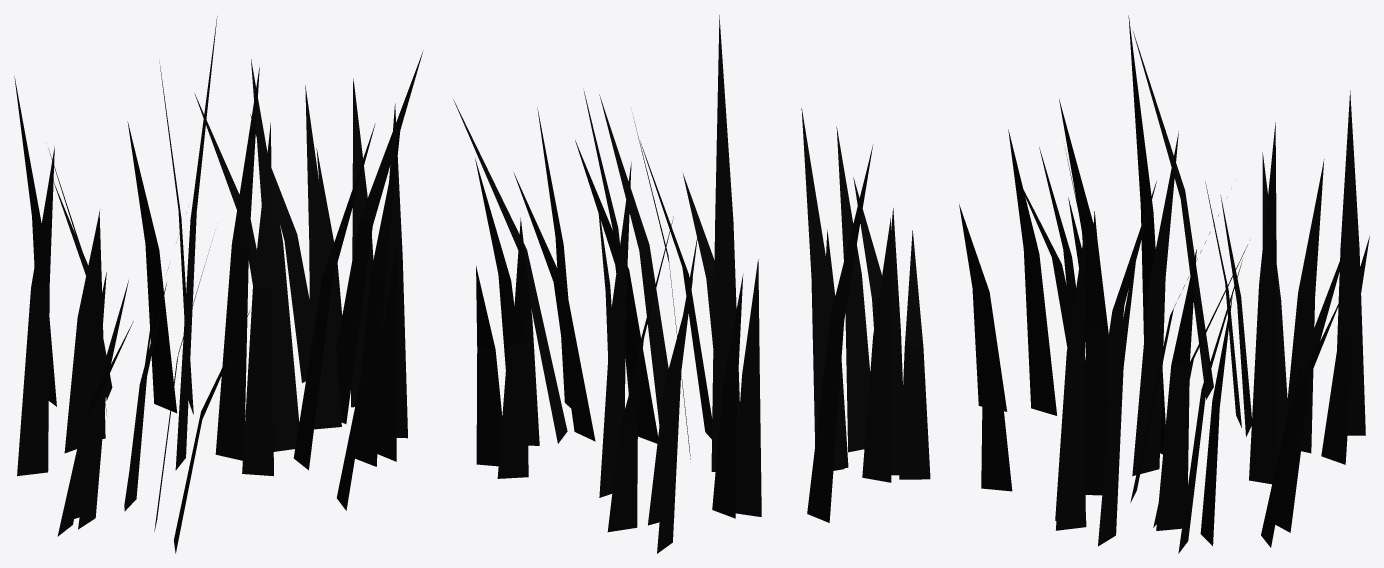
The model's file is SM_grass_tall.fbx.
The picture shows the model from 3 angles, left to right: view 1: azimuth 30°, elevation 25°; view 2: azimuth 150°, elevation 25°; view 3: azimuth 270°, elevation 25°; orthographic projection. The views are drawn at different scales.
Visible parts, largest first — view 1: grass_tall; view 2: grass_tall; view 3: grass_tall.
Boxes of the visible parts, x1,y1,x2,y2 form: grass_tall: (14, 16, 423, 553); grass_tall: (453, 15, 930, 553); grass_tall: (959, 15, 1369, 553).
Size of the model in its own units: 0.7675 by 0.7772 by 0.6454.
